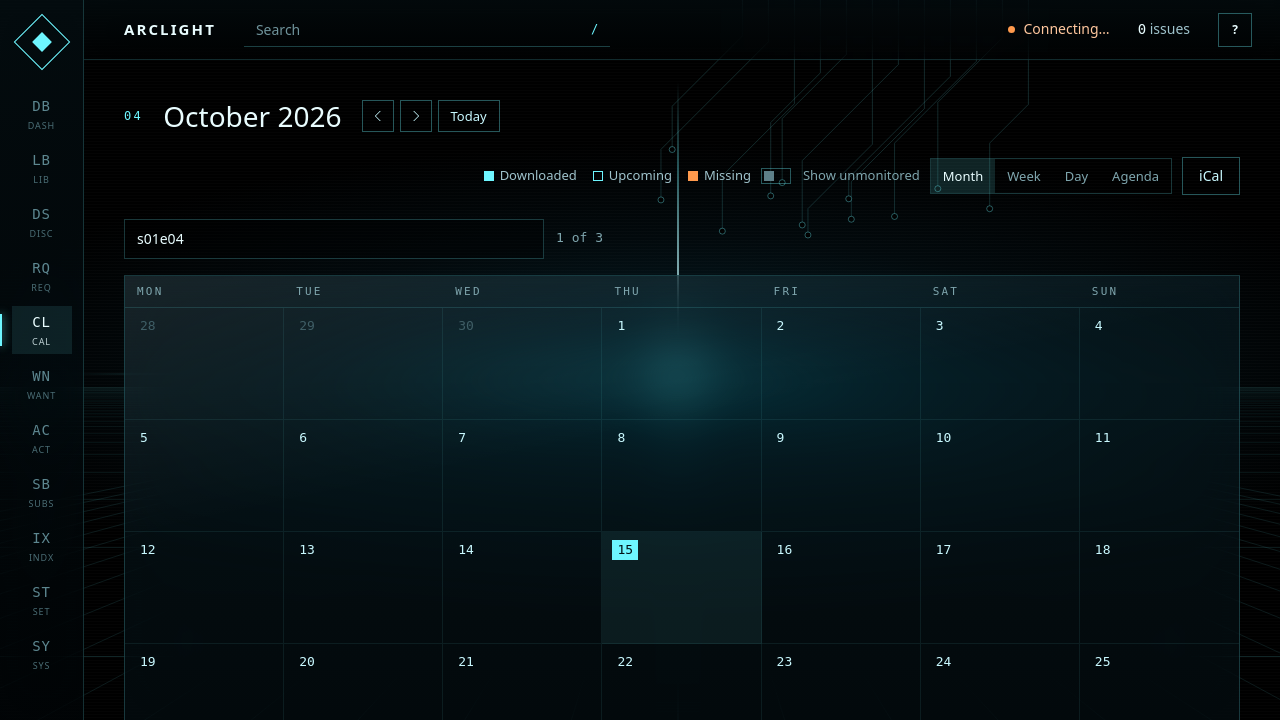
Scenario: calendar page › search applies to the agenda view
This screenshot has width=1280, height=720.
Click the button "Agenda" at coordinates (1136, 176), box [1100, 159, 1171, 193]
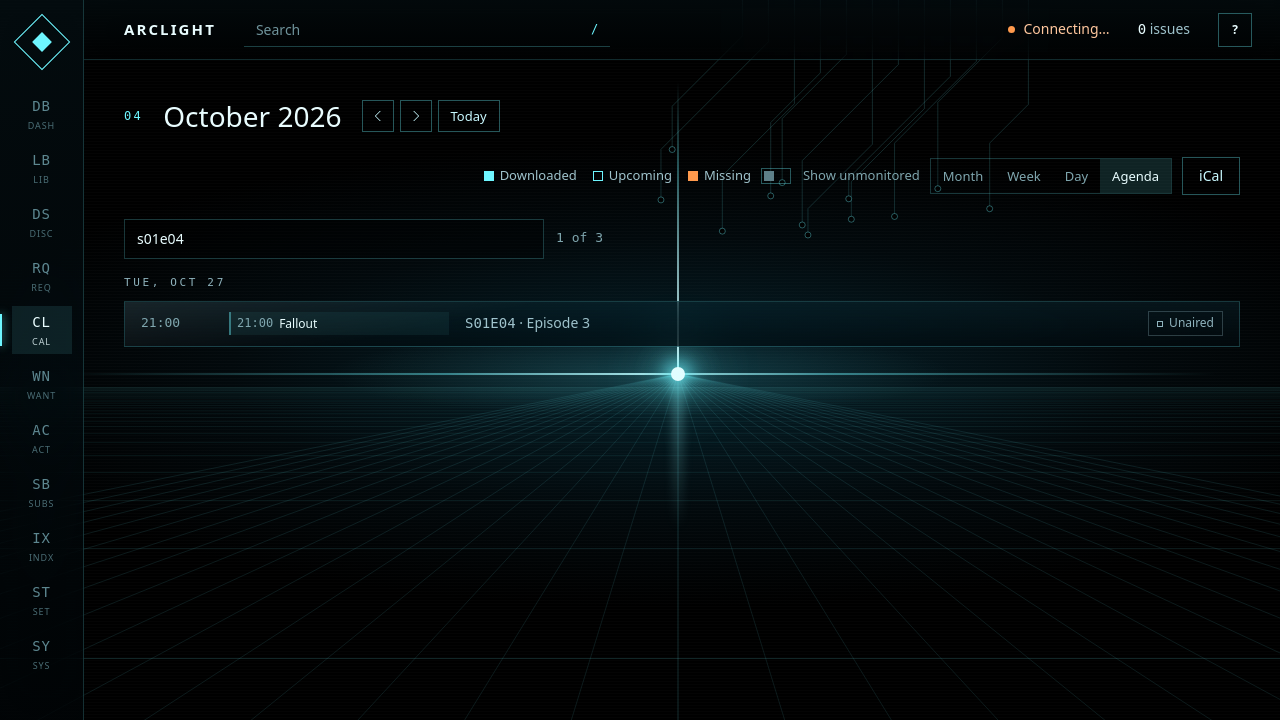
Result: the element named "October 27, 2026" is shown at [124, 275, 1240, 346]
